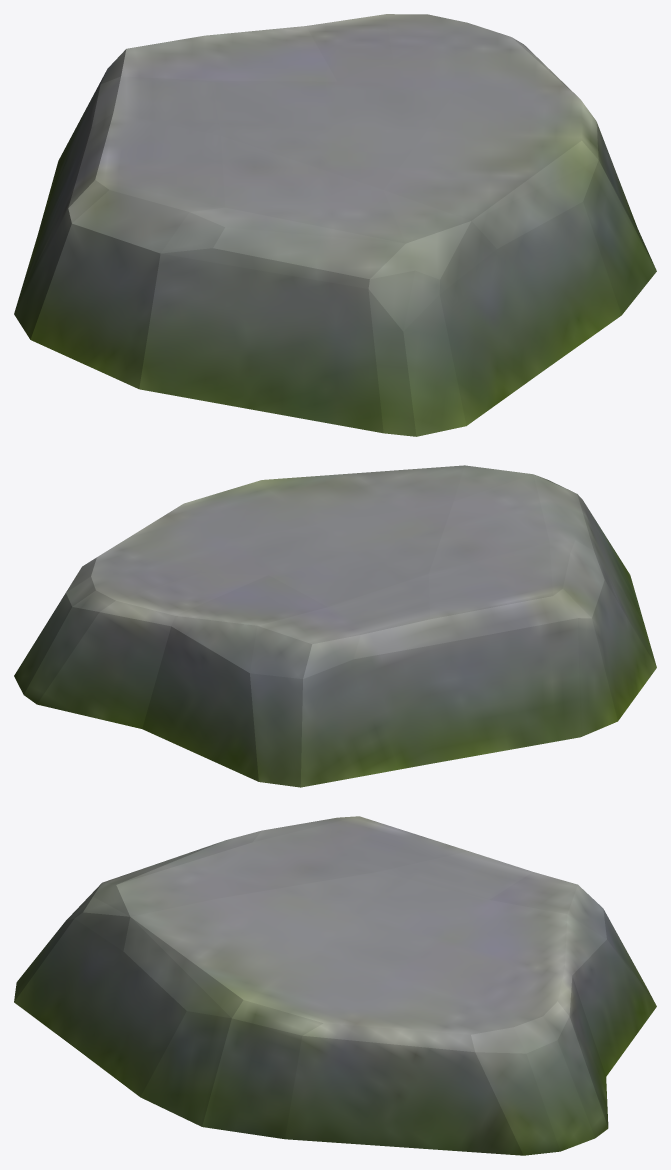
File: pebble-2.glb
The picture shows the model from 3 angles, top to bottom: view 1: azimuth 30°, elevation 25°; view 2: azimuth 150°, elevation 25°; view 3: azimuth 270°, elevation 25°; orthographic projection. The views are drawn at different scales.
Visible parts, largest first — view 1: pebble-2; view 2: pebble-2; view 3: pebble-2.
Boxes of the visible parts, box(x1,y1,x2,y2) form: pebble-2: box(14, 14, 656, 436); pebble-2: box(14, 465, 656, 787); pebble-2: box(14, 816, 656, 1155).
Size of the model in its own units: 0.4497 by 0.0986 by 0.4848.
Materials: 1 (1 with a texture image).
